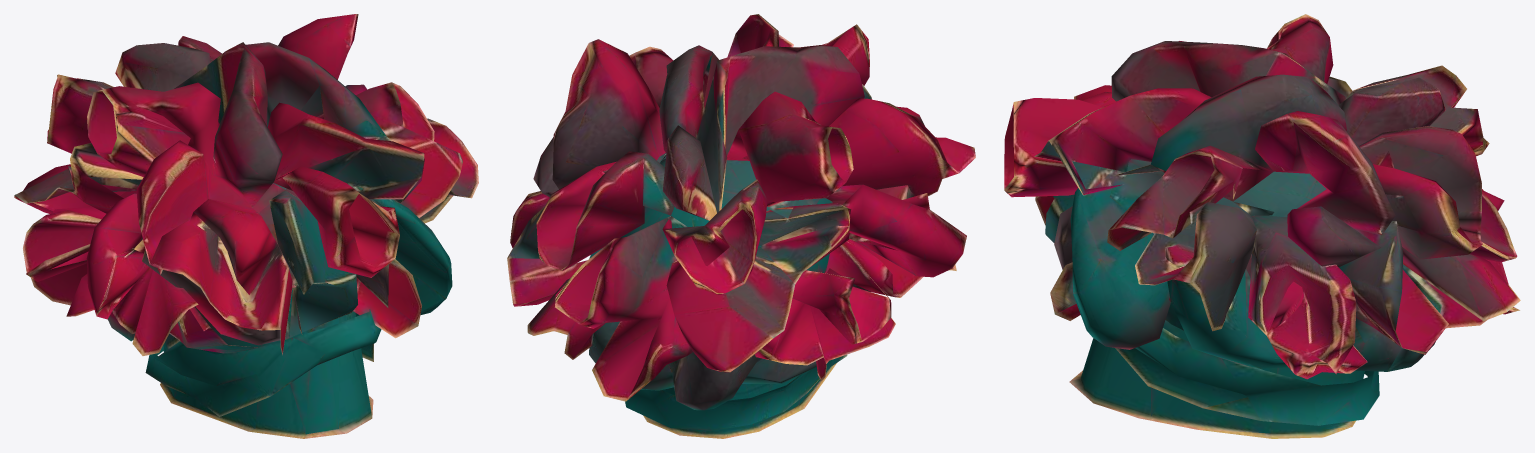
Rendered from sombrero-esmeralda-01.glb.
3 renders of one model, left to right at view 1: azimuth 30°, elevation 25°; view 2: azimuth 150°, elevation 25°; view 3: azimuth 270°, elevation 25°, orthographic. The views are drawn at different scales.
Visible parts, largest first — view 1: sombrero-ajustado-a-Mila; view 2: sombrero-ajustado-a-Mila; view 3: sombrero-ajustado-a-Mila.
Part boxes in pixels (<box>): sombrero-ajustado-a-Mila: <box>14,14,478,438</box>; sombrero-ajustado-a-Mila: <box>507,14,975,438</box>; sombrero-ajustado-a-Mila: <box>1004,14,1520,438</box>.
Size of the model in its own units: 0.72 by 0.6248 by 0.8168.
Materials: 1 (1 with a texture image).
